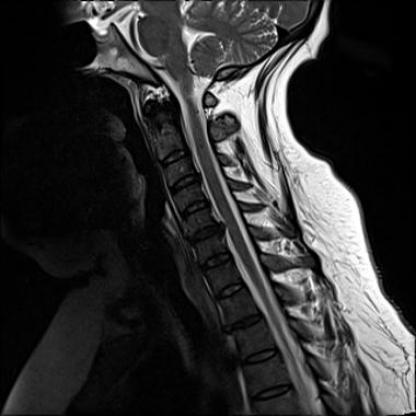Disc Herniationrotation: (185, 222, 223, 244)
Disc Protrusionrotation: (169, 175, 201, 194)
